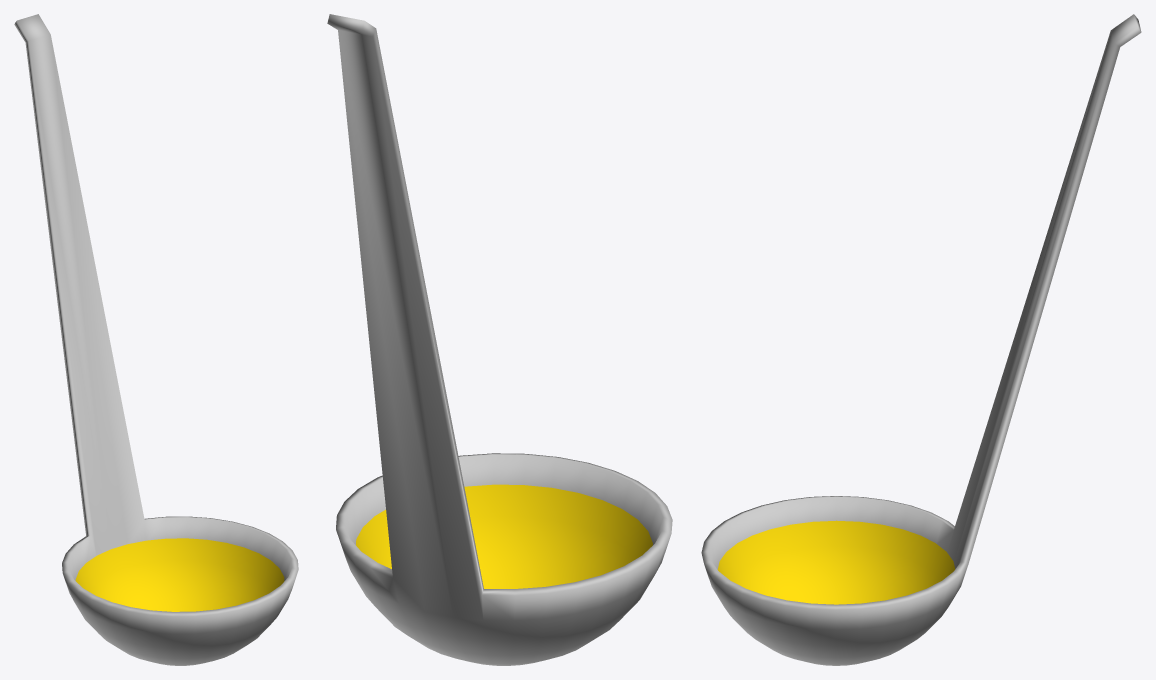
The model's file is Spoon.fbx.
3 renders of one model, left to right at view 1: azimuth 30°, elevation 25°; view 2: azimuth 150°, elevation 25°; view 3: azimuth 270°, elevation 25°, orthographic. The views are drawn at different scales.
Visible parts, largest first — view 1: 球体.001, 球体; view 2: 球体.001, 球体; view 3: 球体.001, 球体.
Boxes of the visible parts, bbox=[...] form: 球体.001: bbox=[14, 14, 298, 665]; 球体: bbox=[75, 538, 284, 611]; 球体.001: bbox=[327, 14, 672, 665]; 球体: bbox=[356, 484, 652, 588]; 球体.001: bbox=[701, 14, 1141, 665]; 球体: bbox=[717, 520, 955, 604].
Bounding box in the file's own units: 169 × 430 × 276.
